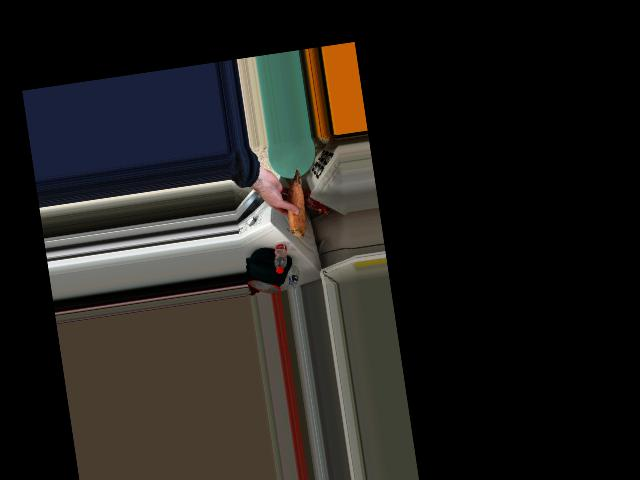sweet_potato: (278, 169, 314, 242)
